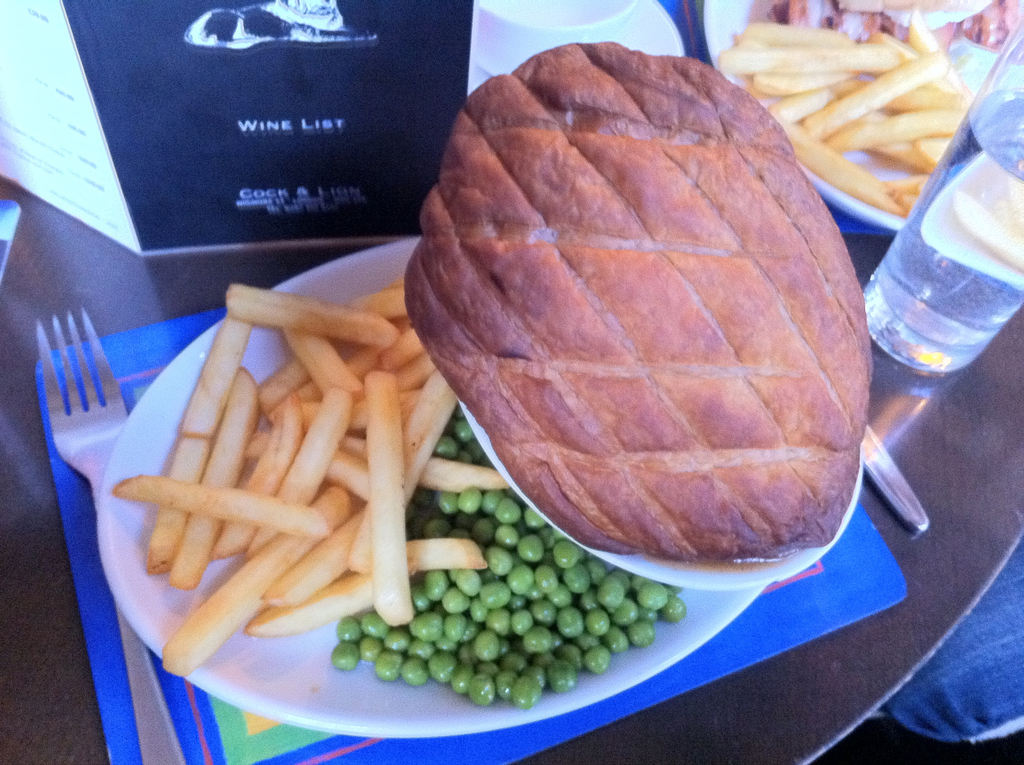French fries: (106, 275, 510, 687), (718, 12, 978, 214)
